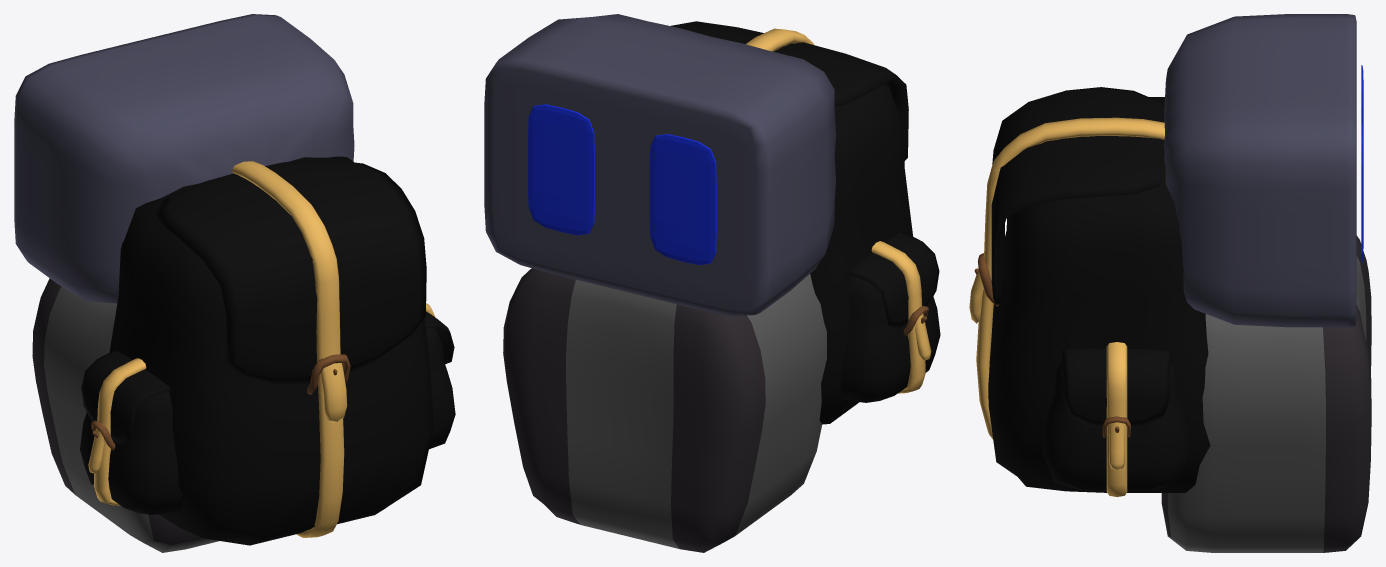
Rendered from EVE_v6.fbx.
The picture shows the model from 3 angles, left to right: view 1: azimuth 30°, elevation 25°; view 2: azimuth 150°, elevation 25°; view 3: azimuth 270°, elevation 25°; orthographic projection. The views are drawn at different scales.
Parts seen in each view (by area): view 1: Backpack, Head, Body; view 2: Head, Body, Backpack, Eyes; view 3: Backpack, Head, Body, Eyes.
Part boxes in pixels (box(x1,y1,x2,y2)): Backpack: box(80, 156, 455, 545); Head: box(14, 14, 354, 303); Body: box(32, 278, 219, 552); Head: box(484, 14, 835, 316); Body: box(503, 268, 826, 552); Backpack: box(671, 21, 940, 424); Eyes: box(528, 104, 716, 264); Backpack: box(969, 87, 1210, 496); Head: box(1164, 14, 1356, 327); Body: box(1161, 235, 1371, 552); Eyes: box(1361, 65, 1363, 262).
Size of the model in its own units: 103 by 123 by 98.93.
